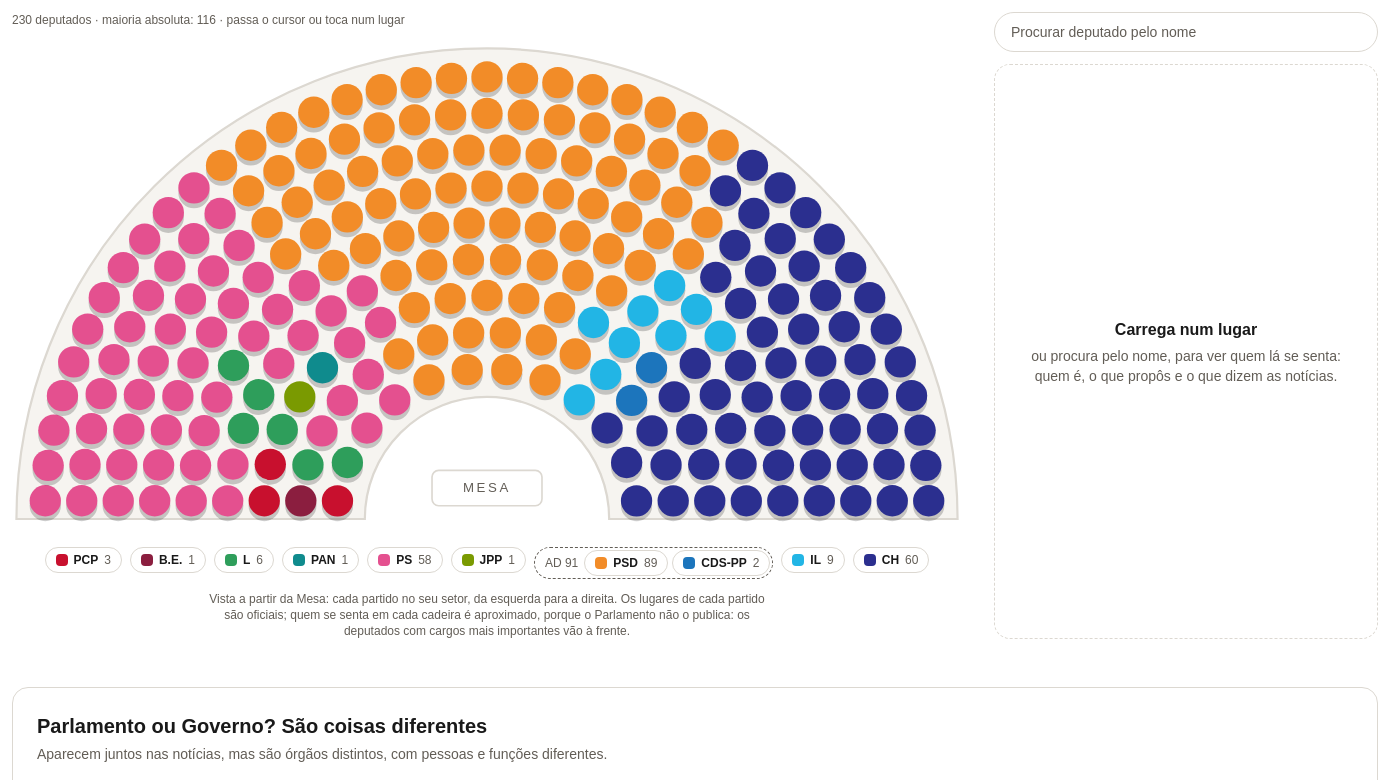
Test: ParliamentView › opens a bench from the legend, with AD grouping PSD and CDS-PP
Click the button "CH 60" at (891, 560), box [853,547,929,573]
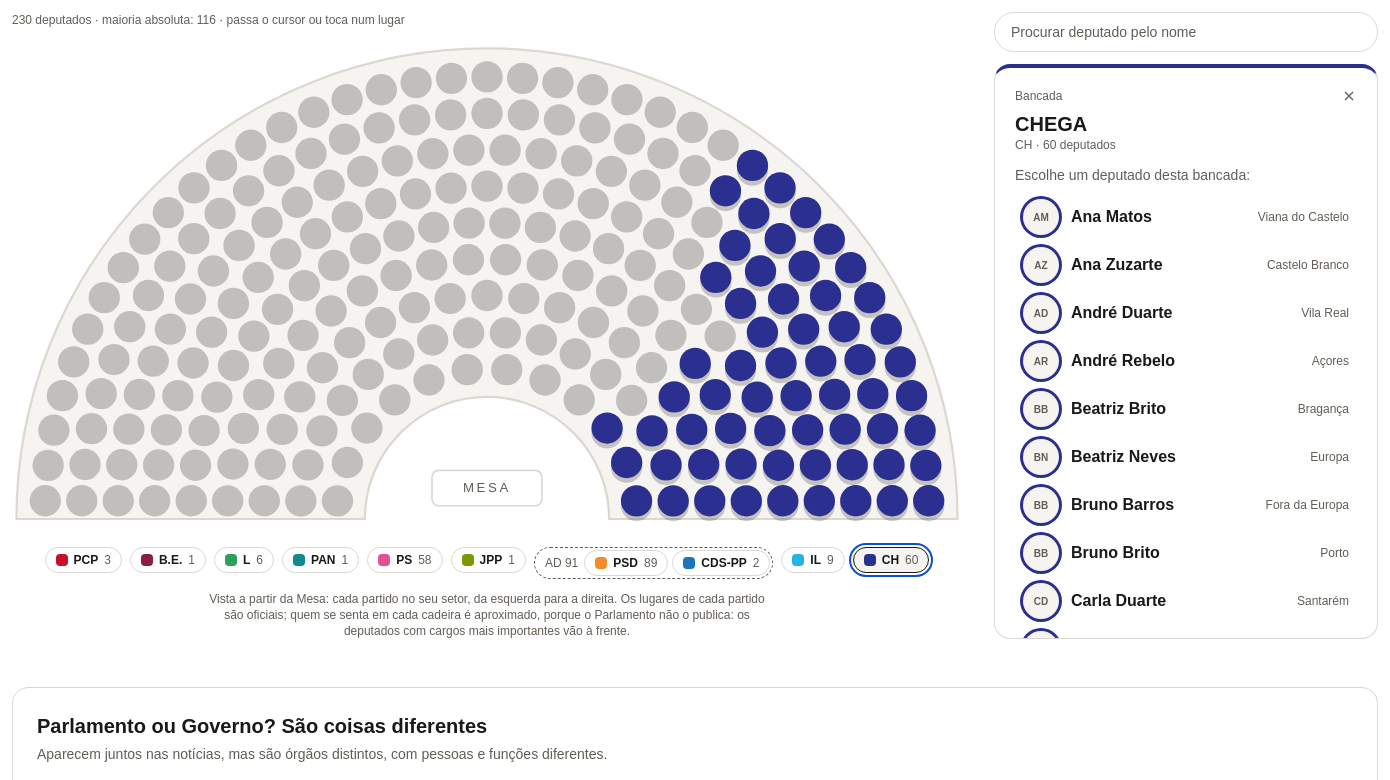
Expected: the element "CHEGA" is shown, [994,64,1378,639]
